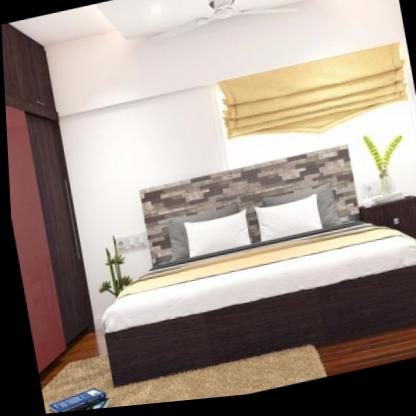Bed: (75, 133, 416, 393)
Closet: (1, 23, 93, 380)
Nightstand: (361, 193, 416, 288)
